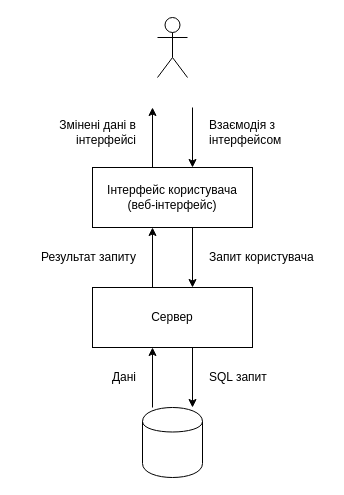
Image size: 344x495. Some labels were removed from this diagram. The shapes that lost their labels are listed below. From the top down, each one's centre as x and y in pixels, then its label:
the point at 172,47: Користувач
the point at 172,442: База даних
